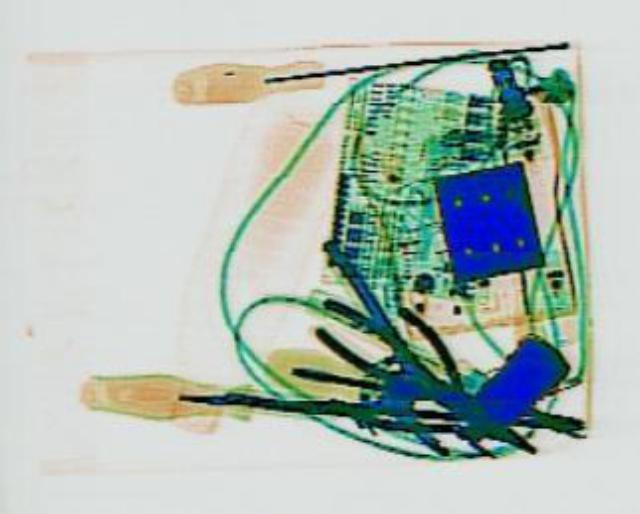Pliers: (304, 281, 570, 476), (280, 363, 584, 440)
